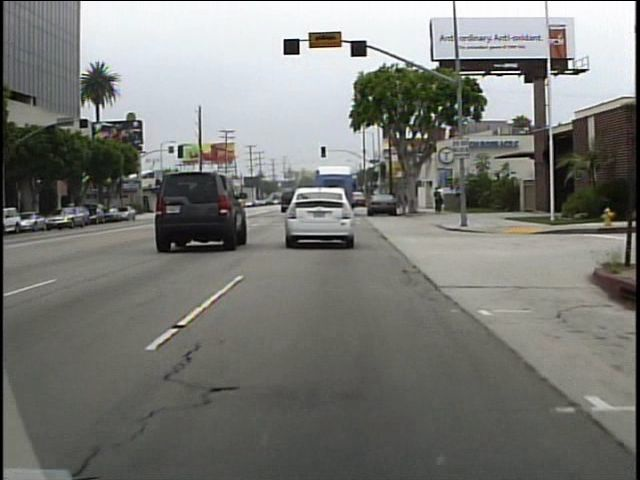person: (432, 187, 443, 217), (439, 186, 449, 214)
